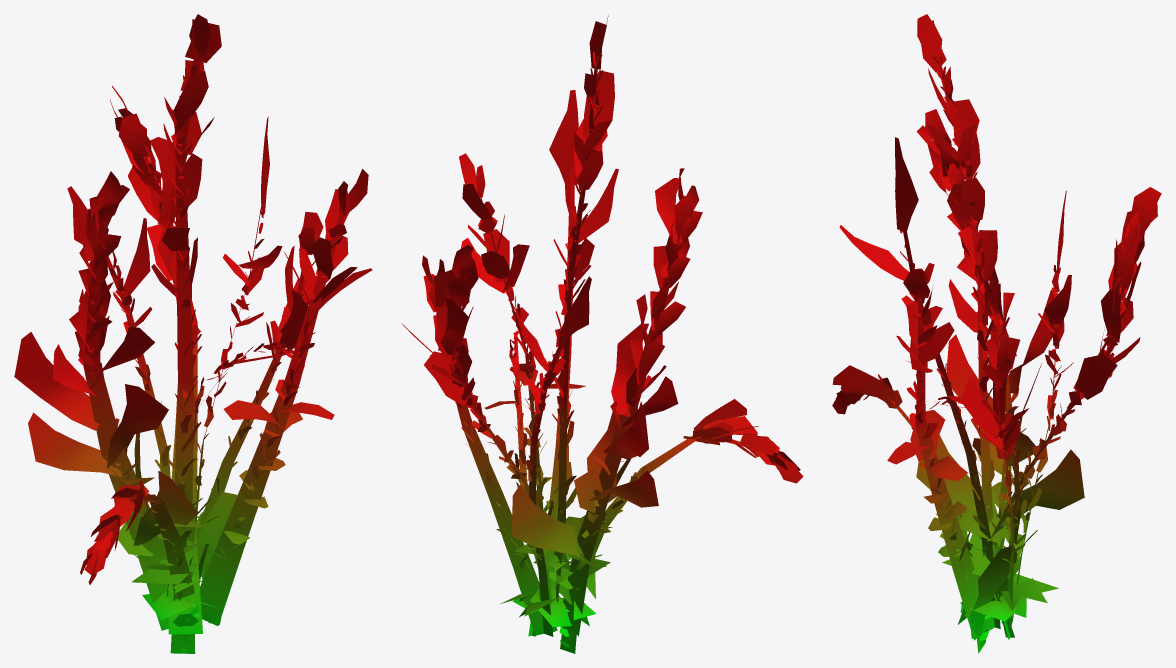
File: Myricaria_LOD1_Var2_tfbldaor.fbx
3 views of the same model, side by side, from view 1: azimuth 30°, elevation 25°; view 2: azimuth 150°, elevation 25°; view 3: azimuth 270°, elevation 25° (orthographic). The views are drawn at different scales.
Parts seen in each view (by area): view 1: Var2_LOD01; view 2: Var2_LOD01; view 3: Var2_LOD01.
Boxes of the visible parts, bbox=[...] form: Var2_LOD01: bbox=[14, 14, 372, 653]; Var2_LOD01: bbox=[401, 15, 803, 653]; Var2_LOD01: bbox=[832, 14, 1161, 653].
Size of the model in its own units: 50.54 by 94.78 by 45.04.
